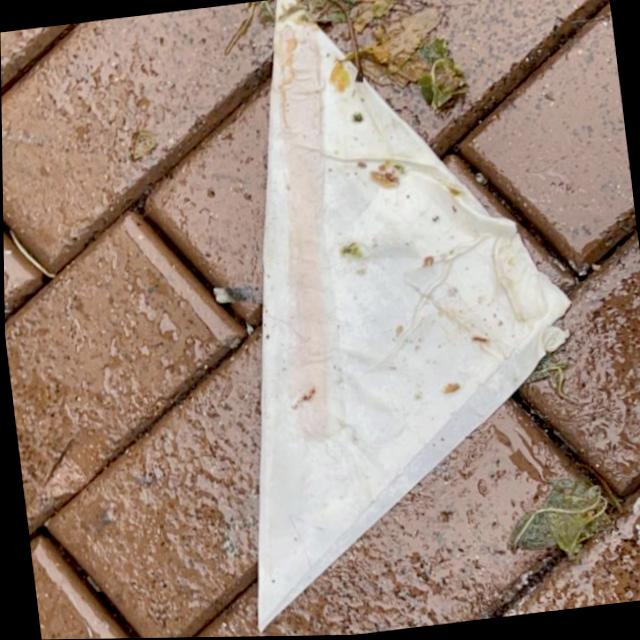Paper: (181, 0, 608, 637)
